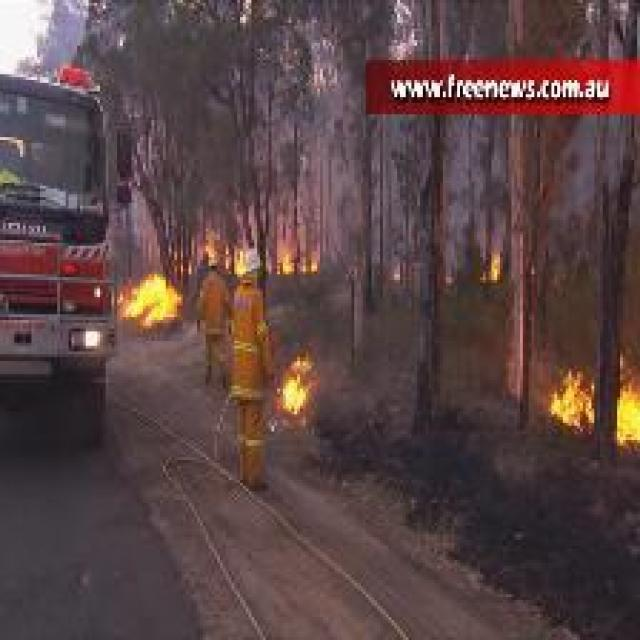Fire: (123, 272, 183, 332), (550, 368, 596, 426), (620, 352, 640, 448), (282, 353, 310, 421), (489, 251, 502, 283), (234, 252, 248, 278), (310, 247, 322, 273), (282, 254, 294, 274)
